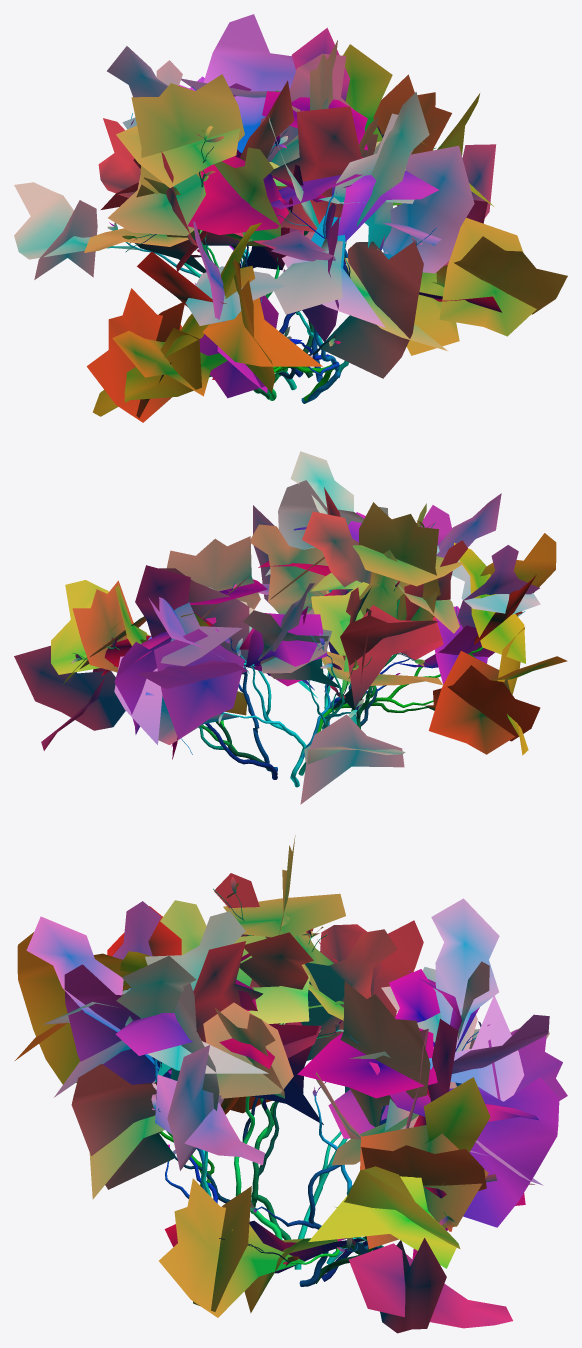
Rendered from Downy_Willow_wknlfiuqx_Mid_wknlfiuqx_VarE_LOD2.fbx.
The picture shows the model from 3 angles, top to bottom: view 1: azimuth 30°, elevation 25°; view 2: azimuth 150°, elevation 25°; view 3: azimuth 270°, elevation 25°; orthographic projection. The views are drawn at different scales.
Parts seen in each view (by area): view 1: _gzm1_VarE_LOD3; view 2: _gzm1_VarE_LOD3; view 3: _gzm1_VarE_LOD3.
Part boxes in pixels (bbox=[...]): _gzm1_VarE_LOD3: bbox=[14, 14, 567, 422]; _gzm1_VarE_LOD3: bbox=[14, 451, 567, 804]; _gzm1_VarE_LOD3: bbox=[15, 836, 567, 1333].
Size of the model in its own units: 281 by 177 by 245.
